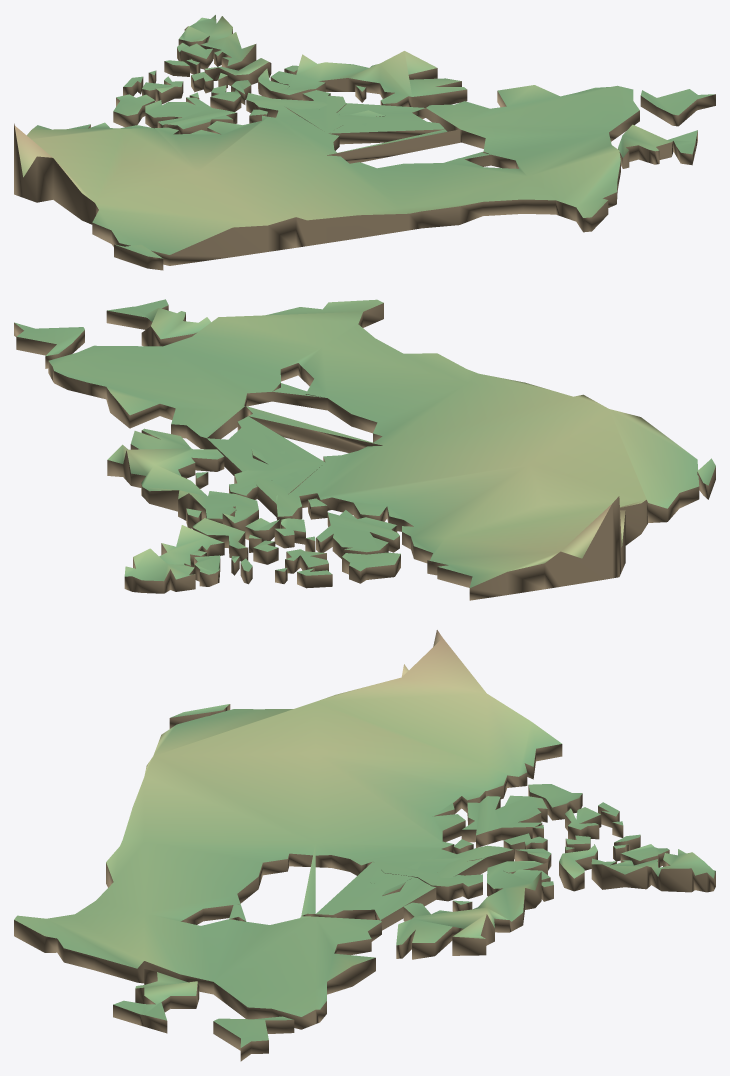
Rendered from CAN.glb.
3 renders of one model, top to bottom at view 1: azimuth 30°, elevation 25°; view 2: azimuth 150°, elevation 25°; view 3: azimuth 270°, elevation 25°, orthographic. The views are drawn at different scales.
Visible parts, largest first — view 1: CAN; view 2: CAN; view 3: CAN.
Boxes of the visible parts, x1=… form: CAN: x1=14, y1=15, x2=715, y2=270; CAN: x1=14, y1=299, x2=715, y2=600; CAN: x1=14, y1=630, x2=715, y2=1061.
Bounding box in the file's own units: 1.8 × 0.2001 × 1.53.
